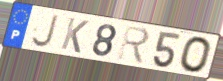5: (152, 30, 183, 69)
8: (92, 23, 118, 58)
J: (30, 13, 60, 49)
K: (59, 16, 91, 55)
O: (178, 35, 213, 74)
R: (116, 24, 151, 66)
